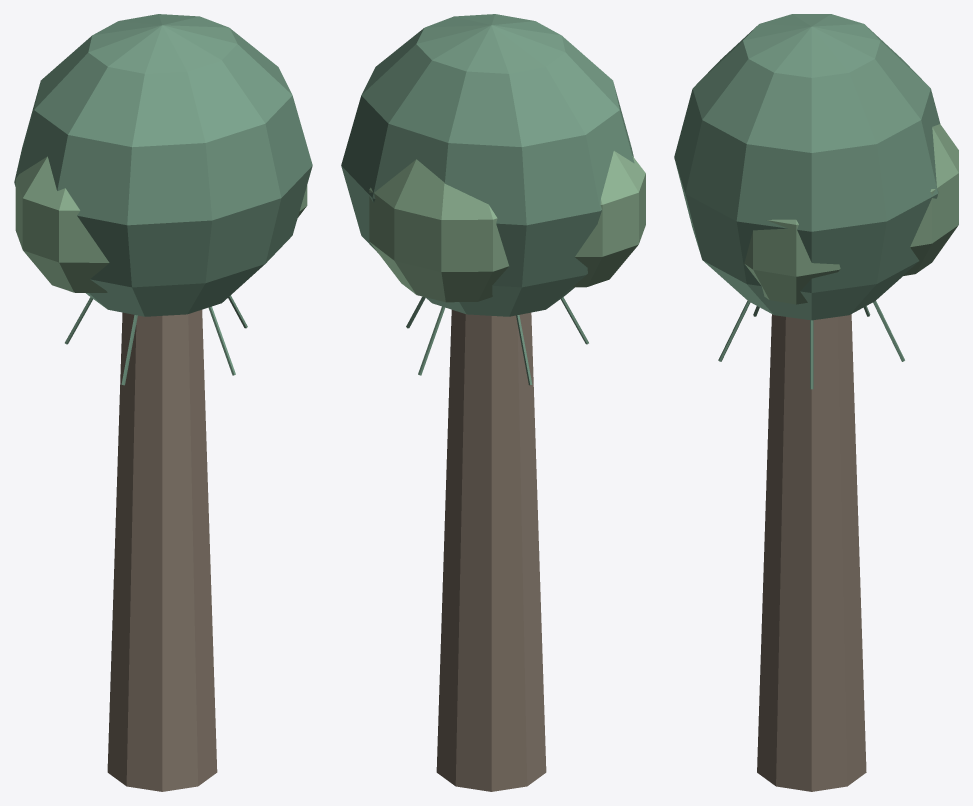
File: arbol_fondo.glb
The picture shows the model from 3 angles, left to right: view 1: azimuth 30°, elevation 25°; view 2: azimuth 150°, elevation 25°; view 3: azimuth 270°, elevation 25°; orthographic projection.
Visible parts, largest first — view 1: arbol_fondo; view 2: arbol_fondo; view 3: arbol_fondo.
Boxes of the visible parts, left/top/right/bottom form: arbol_fondo: left=14, top=14, right=312, bottom=791; arbol_fondo: left=341, top=14, right=645, bottom=791; arbol_fondo: left=674, top=14, right=958, bottom=791.
Bounding box in the file's own units: 4.14 × 10.6 × 3.69.
